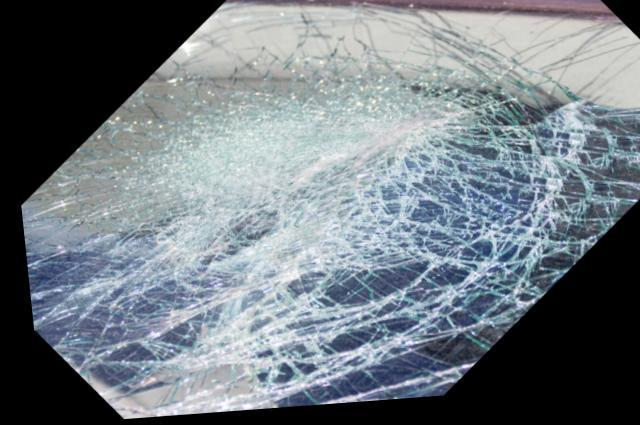glass shatter: (17, 1, 640, 420)
